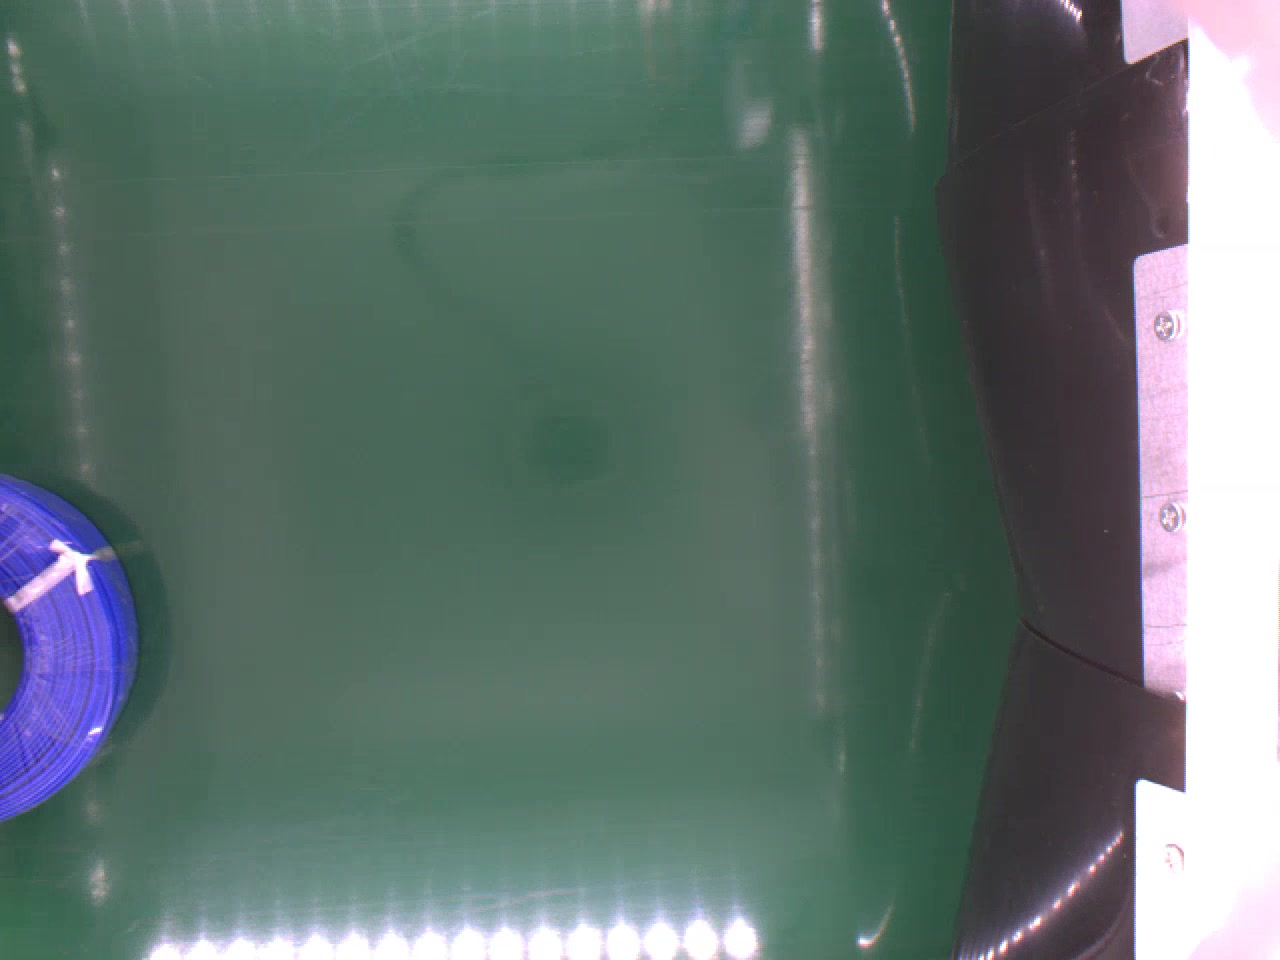blue: (0, 474, 143, 823)
